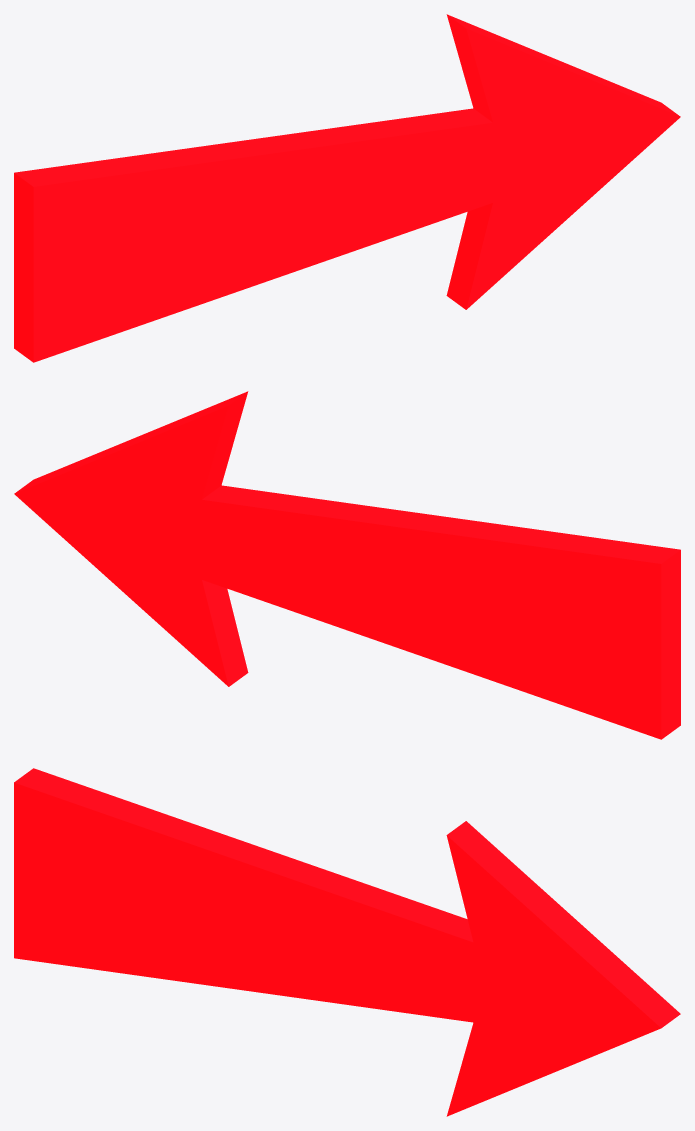
The model's file is lever_arrow.fbx.
3 renders of one model, top to bottom at view 1: azimuth 30°, elevation 25°; view 2: azimuth 150°, elevation 25°; view 3: azimuth 330°, elevation 25°, orthographic.
Visible parts, largest first — view 1: Cube; view 2: Cube; view 3: Cube.
Boxes of the visible parts, x1=… form: Cube: x1=14, y1=14, x2=680, y2=362; Cube: x1=14, y1=391, x2=680, y2=739; Cube: x1=14, y1=768, x2=680, y2=1116.
Bounding box in the file's own units: 655 × 272 × 34.31.
